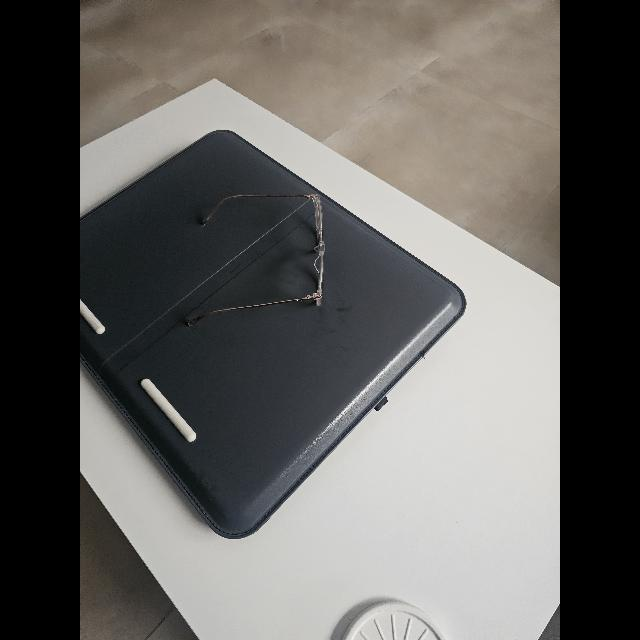glasses: (187, 194, 325, 326)
